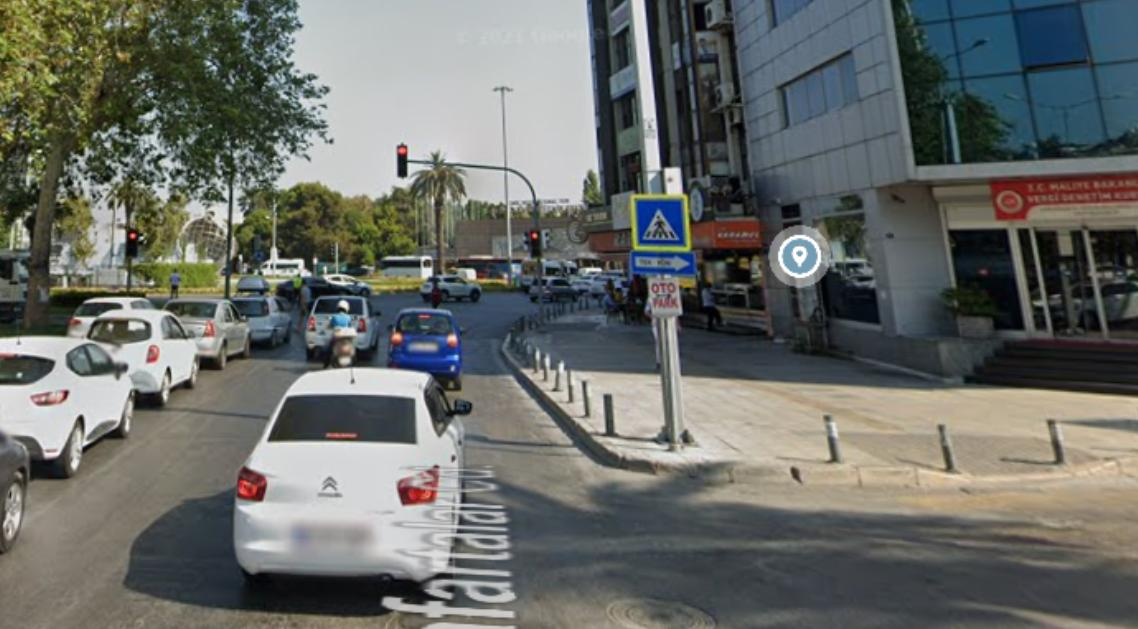redlight: (397, 144, 408, 176), (127, 228, 138, 258), (530, 229, 542, 255)
